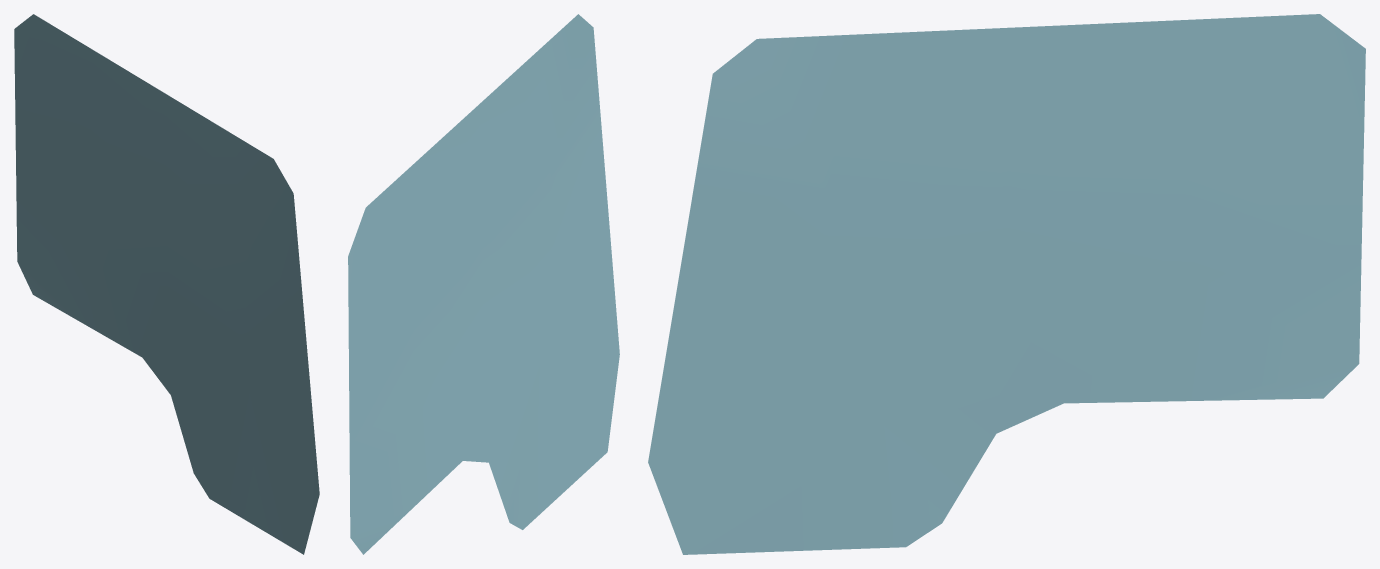
Rendered from Truck_1_Door_Window_FR_Tessellate.fbx.
The picture shows the model from 3 angles, left to right: view 1: azimuth 30°, elevation 25°; view 2: azimuth 150°, elevation 25°; view 3: azimuth 270°, elevation 25°; orthographic projection. The views are drawn at different scales.
Parts seen in each view (by area): view 1: Truck_1_Door_Window_FR_Tessellate; view 2: Truck_1_Door_Window_FR_Tessellate; view 3: Truck_1_Door_Window_FR_Tessellate.
Boxes of the visible parts, bbox=[...] form: Truck_1_Door_Window_FR_Tessellate: bbox=[14, 14, 319, 554]; Truck_1_Door_Window_FR_Tessellate: bbox=[348, 14, 619, 554]; Truck_1_Door_Window_FR_Tessellate: bbox=[648, 14, 1365, 554].
Size of the model in its own units: 68.83 by 591 by 744.
